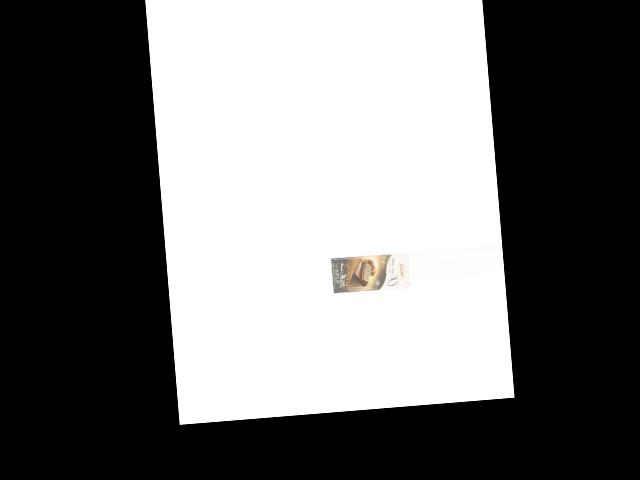chocolate: (330, 250, 411, 296)
